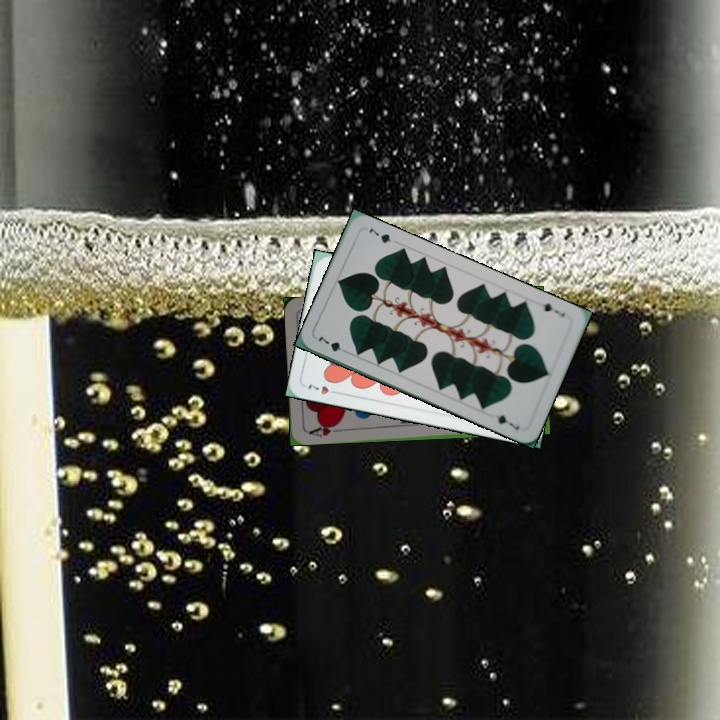G7: (314, 330, 352, 356), (539, 299, 568, 319)
H7: (304, 380, 342, 397)
HA: (304, 419, 341, 440)
